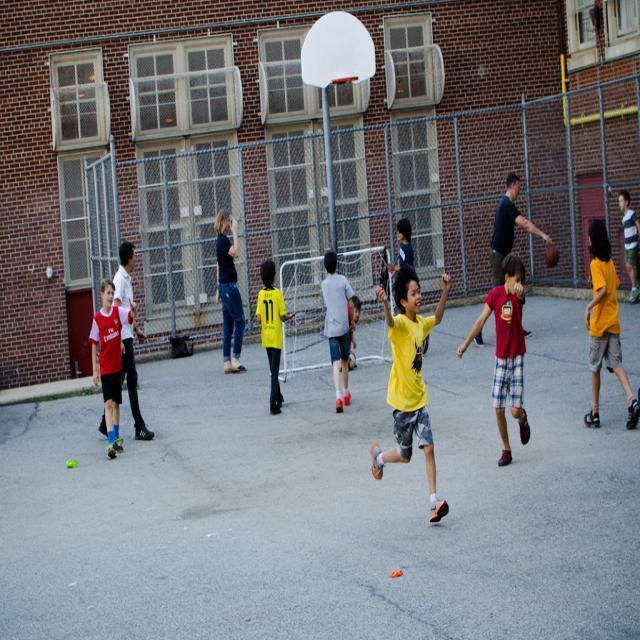ball: (542, 241, 560, 273), (350, 351, 357, 372)
